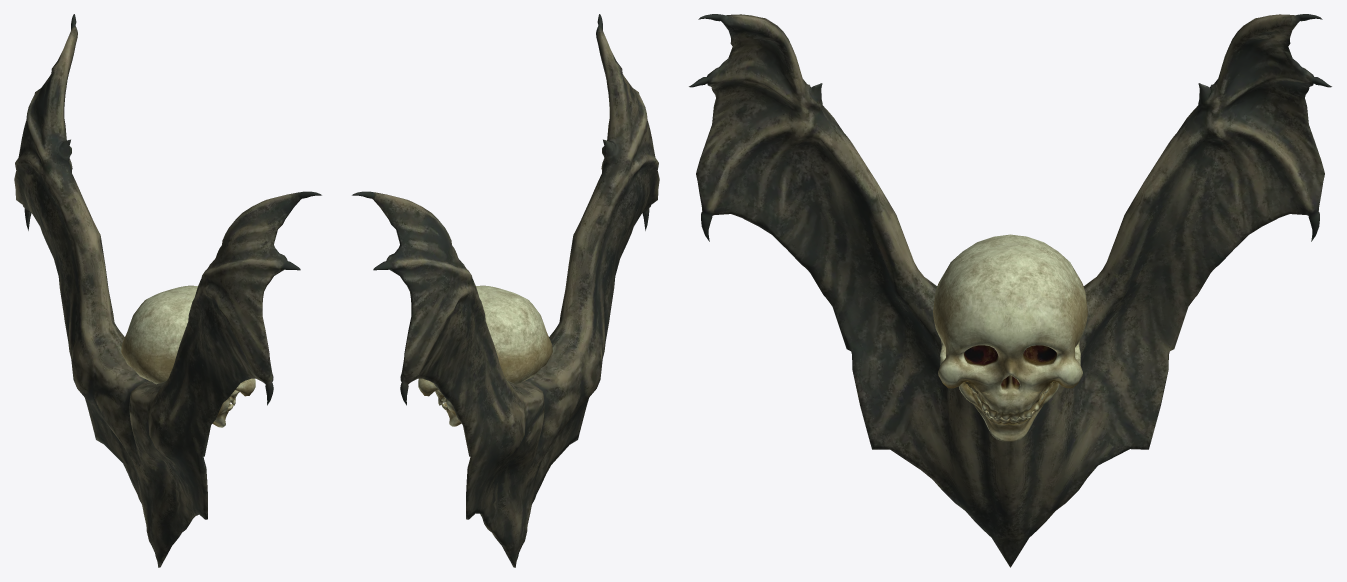
File: wingskull.glb
3 views of the same model, side by side, from view 1: azimuth 30°, elevation 25°; view 2: azimuth 150°, elevation 25°; view 3: azimuth 270°, elevation 25° (orthographic). The views are drawn at different scales.
Parts seen in each view (by area): view 1: wr_8, sr_7; view 2: wr_8, sr_7; view 3: wr_8, sr_7.
Boxes of the visible parts, <box> form: wr_8: <box>14,14,321,567</box>; sr_7: <box>121,285,255,427</box>; wr_8: <box>352,14,659,567</box>; sr_7: <box>418,285,552,426</box>; wr_8: <box>689,14,1331,567</box>; sr_7: <box>933,234,1087,441</box>.
Size of the model in its own units: 0.3292 by 1.08 by 1.1.
2 materials, 2 textured.
